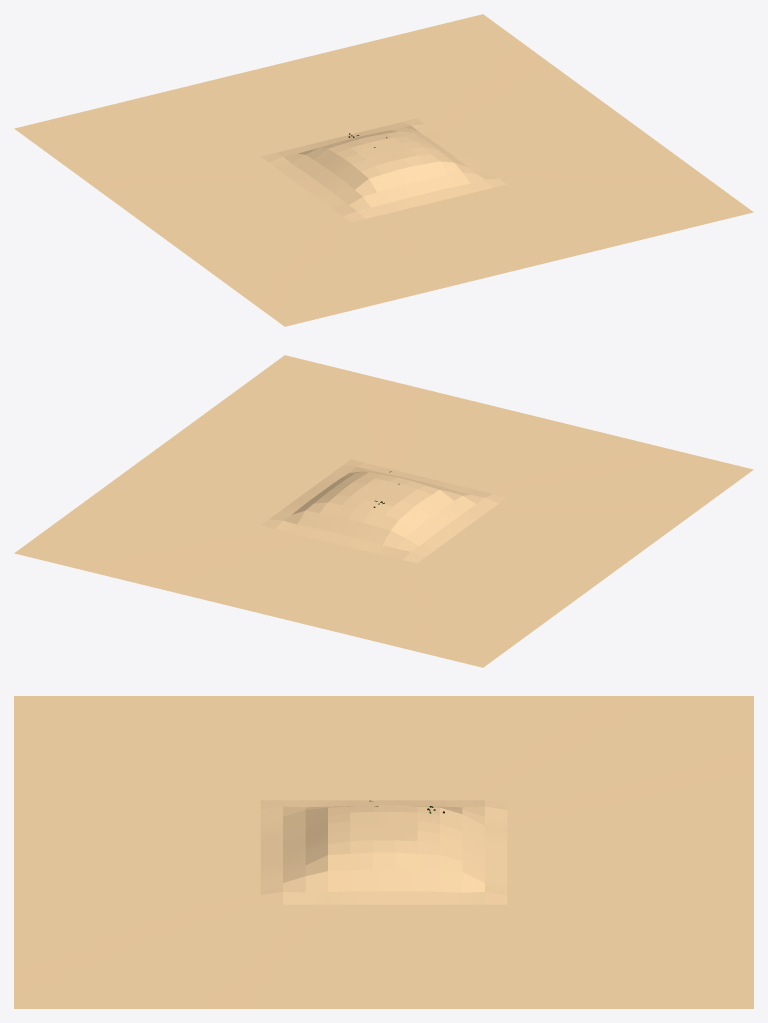
File: Combined Mesh (root_ scene)_0.glb
3 renders of one model, top to bottom at view 1: azimuth 30°, elevation 25°; view 2: azimuth 150°, elevation 25°; view 3: azimuth 270°, elevation 25°, orthographic. The views are drawn at different scales.
Parts seen in each view (by area): view 1: Combined Mesh (root_ scene)_0; view 2: Combined Mesh (root_ scene)_0; view 3: Combined Mesh (root_ scene)_0.
Boxes of the visible parts, x1,y1,x2,y2 form: Combined Mesh (root_ scene)_0: [14, 14, 753, 326]; Combined Mesh (root_ scene)_0: [14, 355, 753, 667]; Combined Mesh (root_ scene)_0: [14, 696, 753, 1008].
Bounding box in the file's own units: 600 × 45.02 × 600.
1 material, 1 textured.
